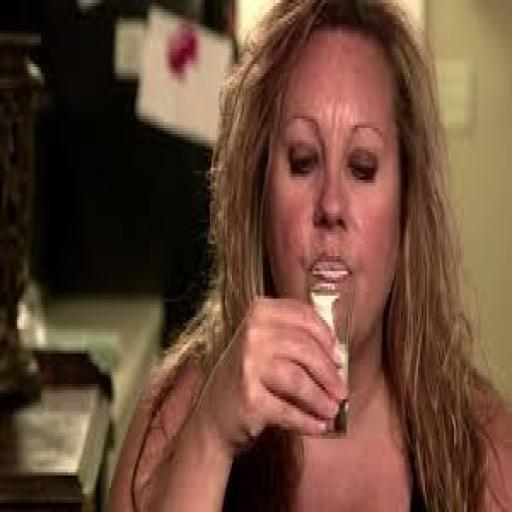drinking: (306, 271, 354, 436)
